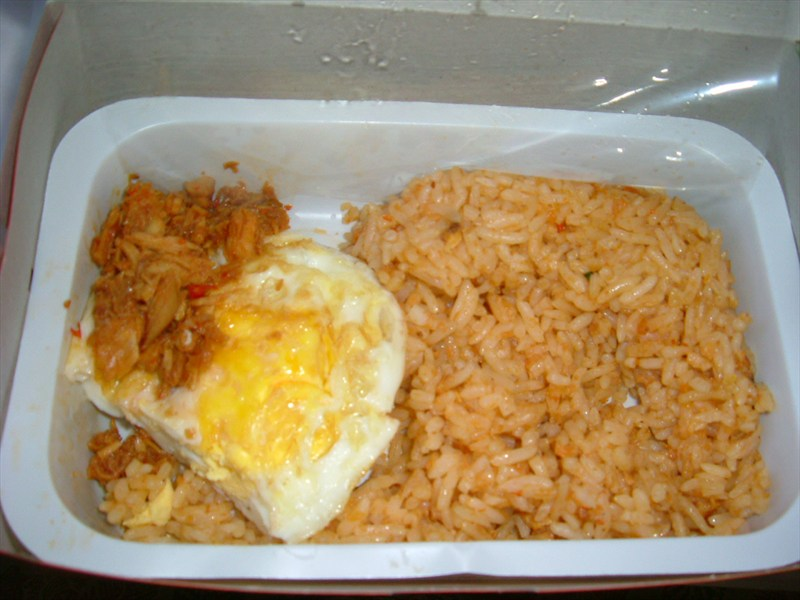Nasi Goreng: (92, 194, 688, 588)
